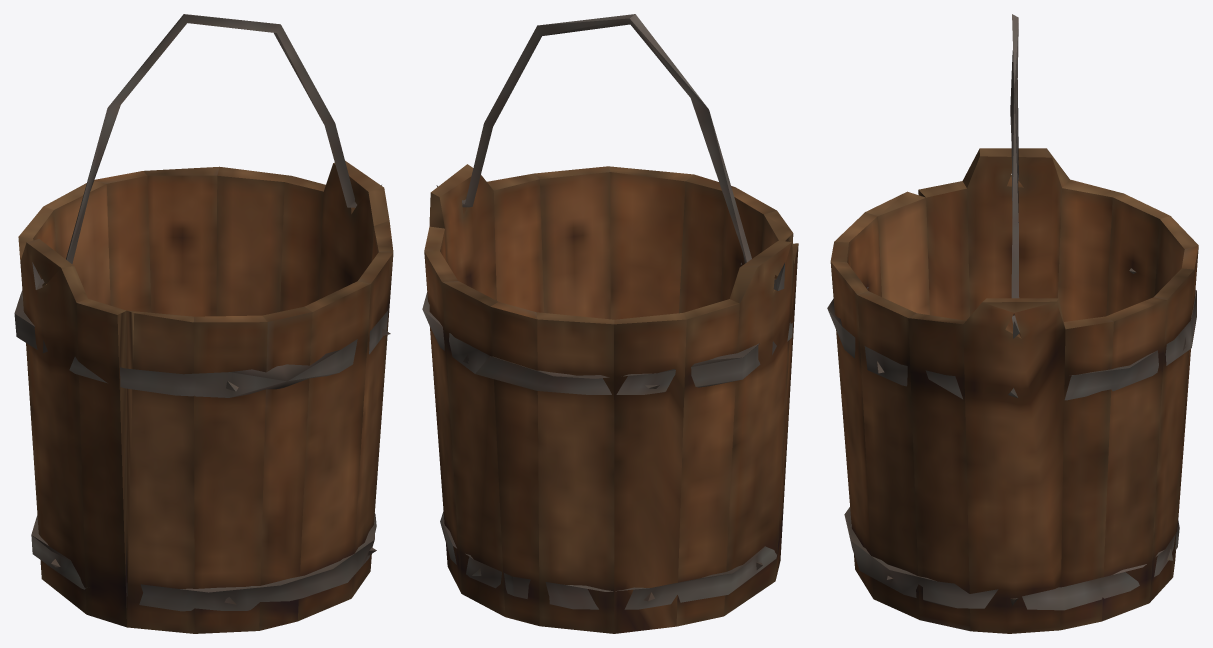
Rendered from wooden_bucket_01.fbx.
3 renders of one model, left to right at view 1: azimuth 30°, elevation 25°; view 2: azimuth 150°, elevation 25°; view 3: azimuth 270°, elevation 25°, orthographic. The views are drawn at different scales.
Visible parts, largest first — view 1: wooden_bucket_01; view 2: wooden_bucket_01; view 3: wooden_bucket_01.
Boxes of the visible parts, box(x1,y1,x2,y2) form: wooden_bucket_01: box(14, 14, 393, 633); wooden_bucket_01: box(422, 14, 798, 633); wooden_bucket_01: box(827, 14, 1198, 633).
Bounding box in the file's own units: 0.3638 × 0.5526 × 0.3441.
